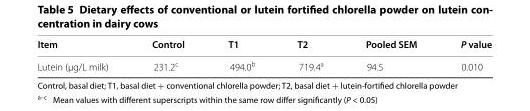table: (36, 37, 491, 72)
table column: (343, 37, 438, 72), (36, 37, 129, 72), (129, 37, 205, 72), (205, 37, 275, 72), (275, 37, 343, 72), (438, 37, 491, 72)
table column header: (36, 37, 491, 54)
table row: (36, 54, 491, 72), (36, 37, 491, 54)
